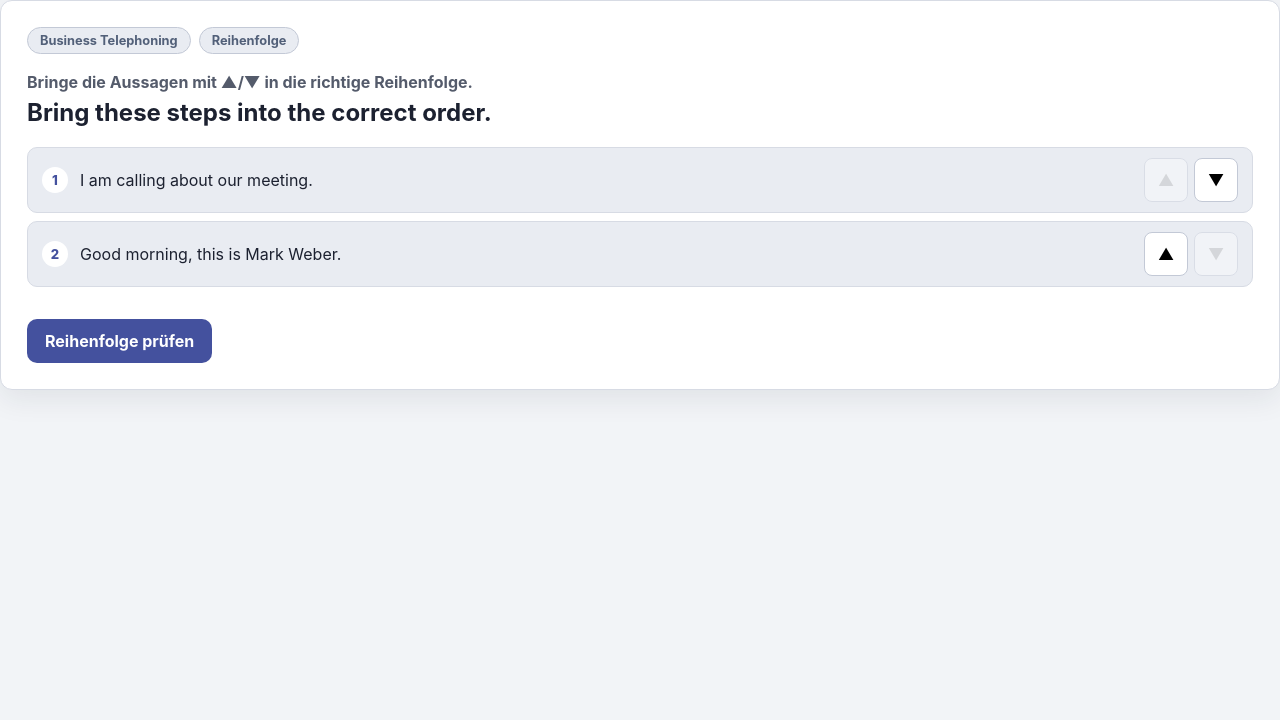
it: OrderedStepsTrainer - Auswertung › kann durch Sortieren die korrekte Reihenfolge erreichen und wird als richtig erkannt
The image size is (1280, 720).
Click the button named "Nach oben verschieben" at (1166, 254), box [1144,232,1188,276]
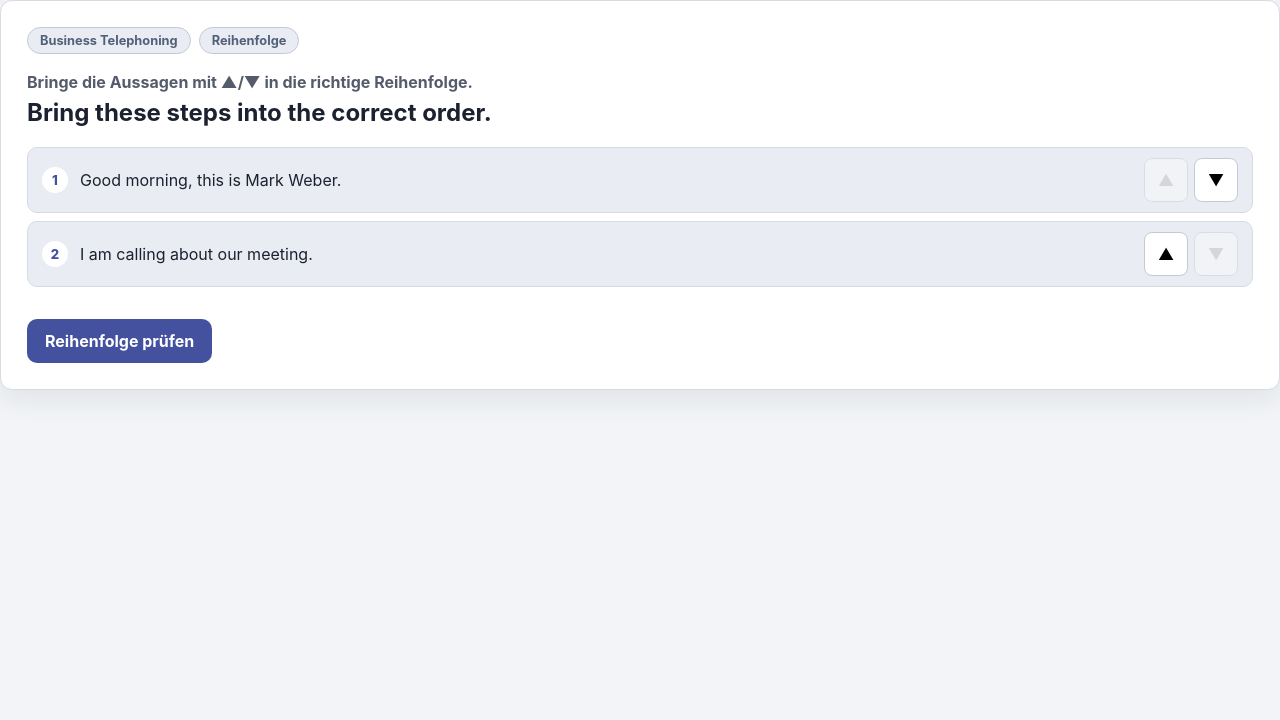
Click the button "Reihenfolge prüfen" at (120, 341), box [27,319,212,363]
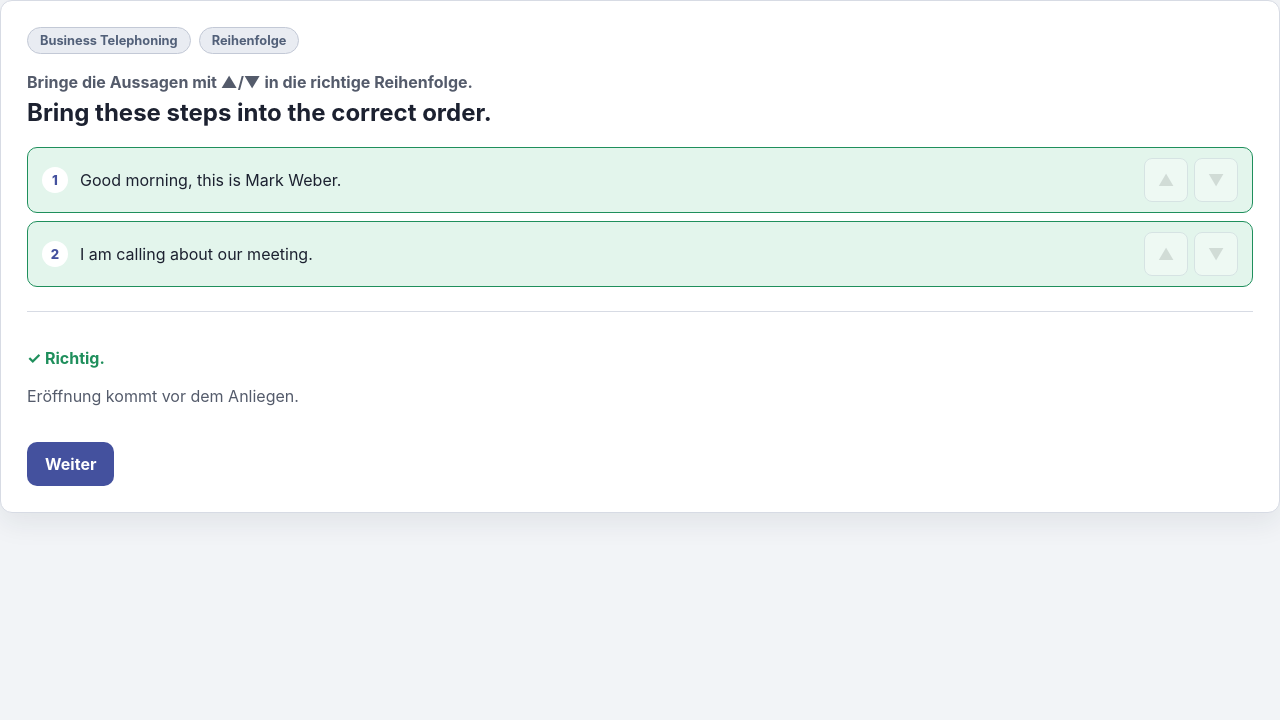
Result: the element with class "feedback-correct" is shown at [27,348,105,368]
